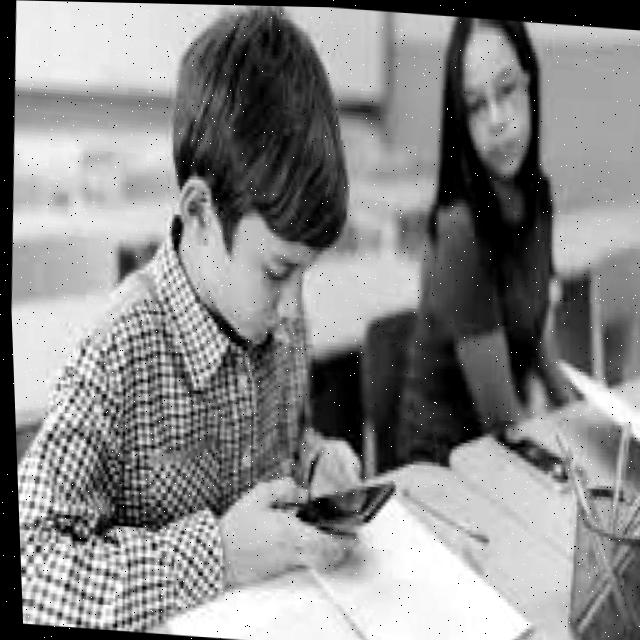phone: (290, 469, 396, 534)
